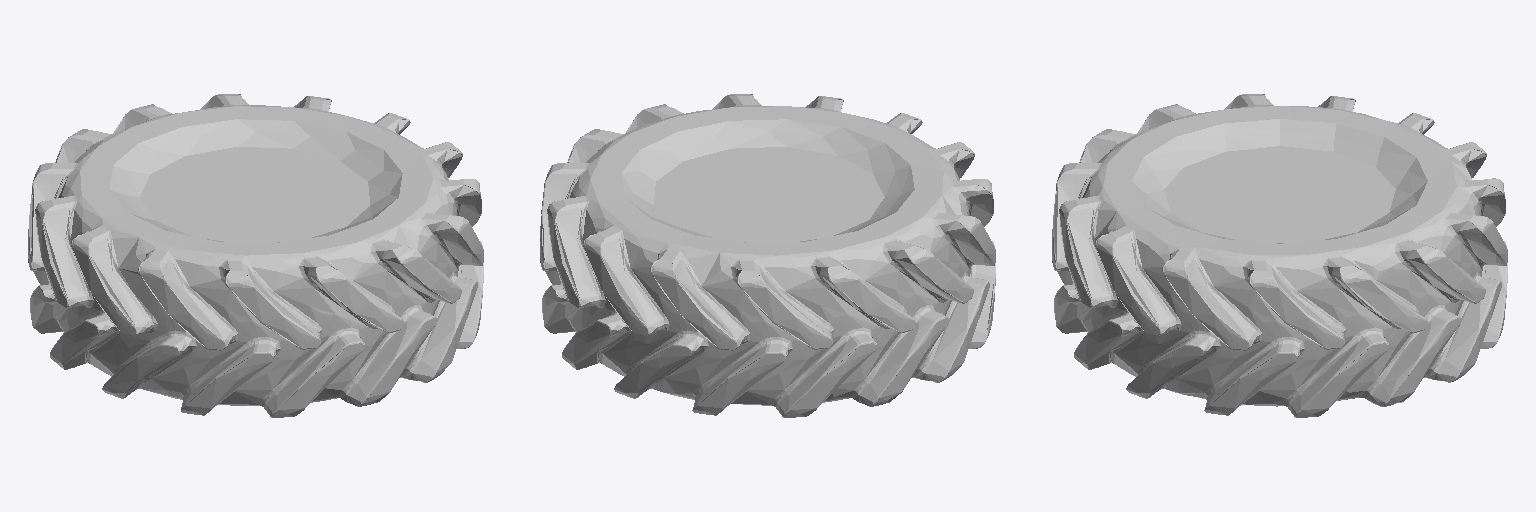
The model's file is lugged_wheel.obj.
3 views of the same model, side by side, from view 1: azimuth 30°, elevation 25°; view 2: azimuth 150°, elevation 25°; view 3: azimuth 270°, elevation 25° (orthographic).
Visible parts, largest first — view 1: tractor_wheel; view 2: tractor_wheel; view 3: tractor_wheel.
Boxes of the visible parts, x1=… form: tractor_wheel: x1=28, y1=94, x2=483, y2=417; tractor_wheel: x1=540, y1=94, x2=995, y2=417; tractor_wheel: x1=1052, y1=94, x2=1507, y2=417.
Size of the model in its own units: 0.8988 by 0.3269 by 0.8984.